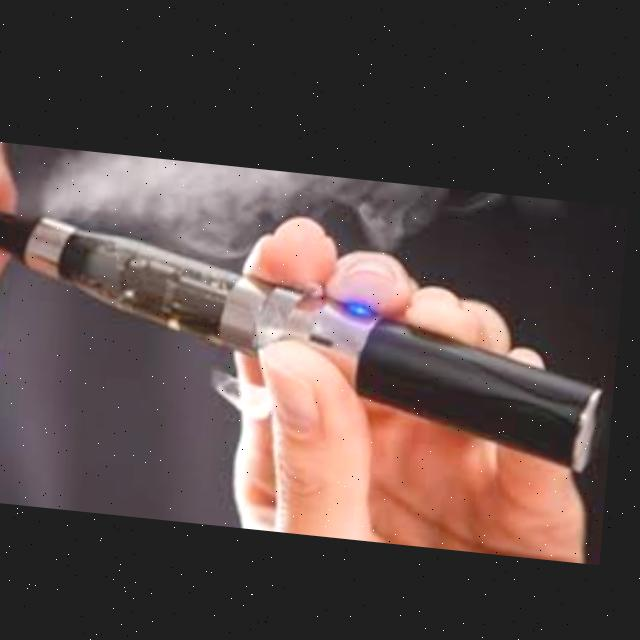vape: (0, 205, 616, 458)
